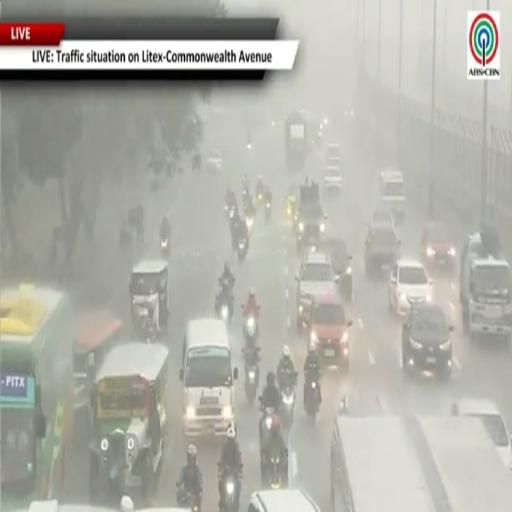bus: (0, 285, 73, 511), (331, 415, 433, 511)
car: (452, 398, 511, 469), (402, 303, 453, 376), (295, 251, 339, 329), (309, 294, 352, 367), (388, 259, 433, 315), (323, 238, 353, 301), (365, 226, 401, 276), (247, 489, 320, 511), (421, 223, 456, 268), (380, 170, 405, 220), (285, 184, 299, 227), (369, 206, 395, 229), (323, 164, 344, 192), (207, 150, 222, 171), (327, 143, 341, 161)
jeepney: (89, 343, 168, 505), (74, 311, 122, 447), (129, 260, 169, 333)
motorcycle: (218, 463, 240, 511), (243, 347, 259, 405), (264, 448, 285, 489), (259, 397, 275, 446), (177, 483, 202, 511), (305, 379, 319, 423), (282, 384, 295, 430), (216, 290, 232, 325), (244, 314, 258, 345), (142, 320, 157, 344), (237, 237, 248, 261), (218, 278, 234, 293), (161, 237, 170, 255), (265, 200, 272, 221), (225, 204, 235, 218), (246, 216, 253, 234), (256, 191, 263, 205), (228, 206, 235, 219)
truck: (330, 409, 511, 511), (460, 228, 511, 340), (296, 183, 326, 252), (285, 111, 308, 170)
